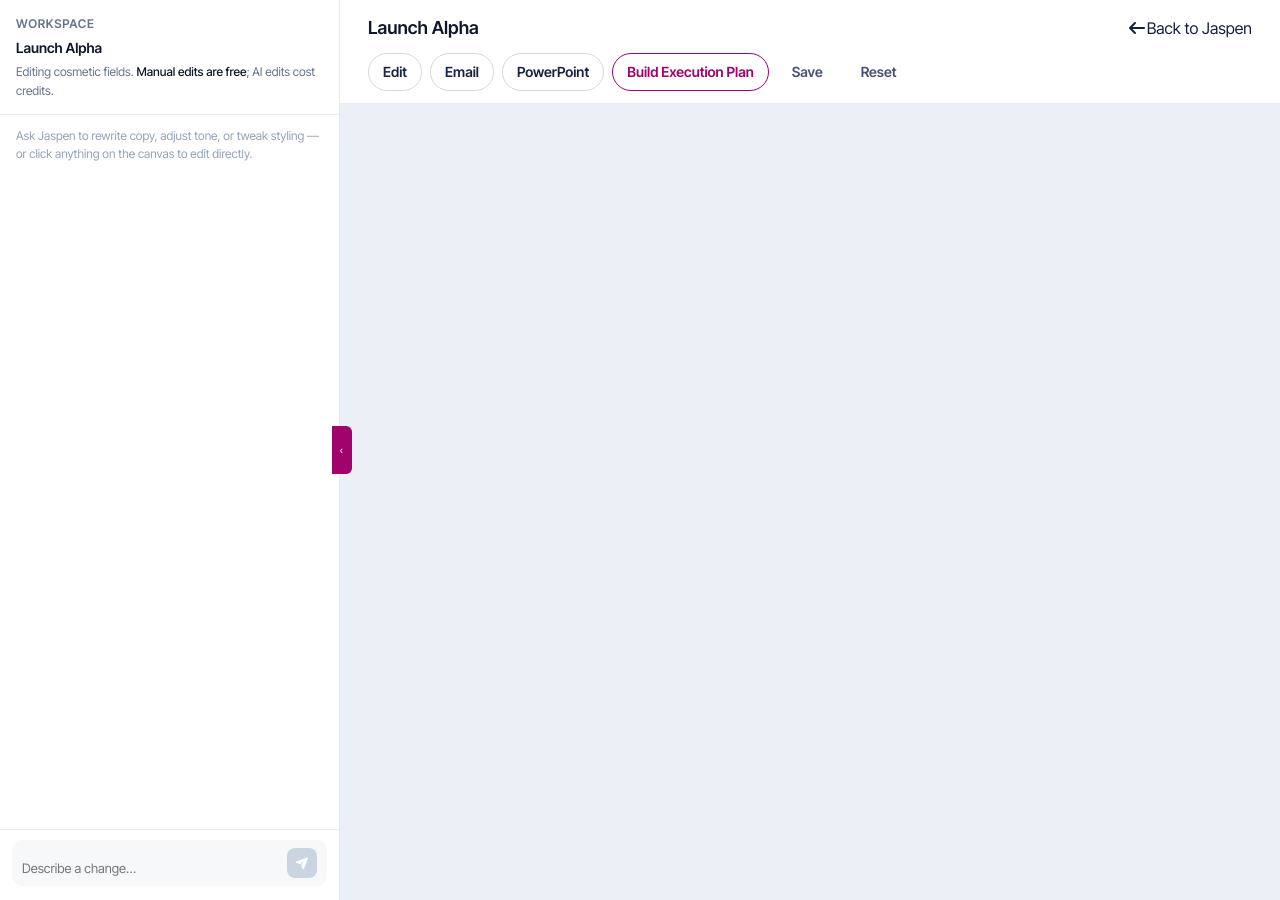
it: adds only the data-backed plan card after a successful sidebar build
Type "Build an execution plan" into the text box with placeholder "Describe a change…" at coordinates (152, 869), box left=22, top=859, right=281, bottom=878
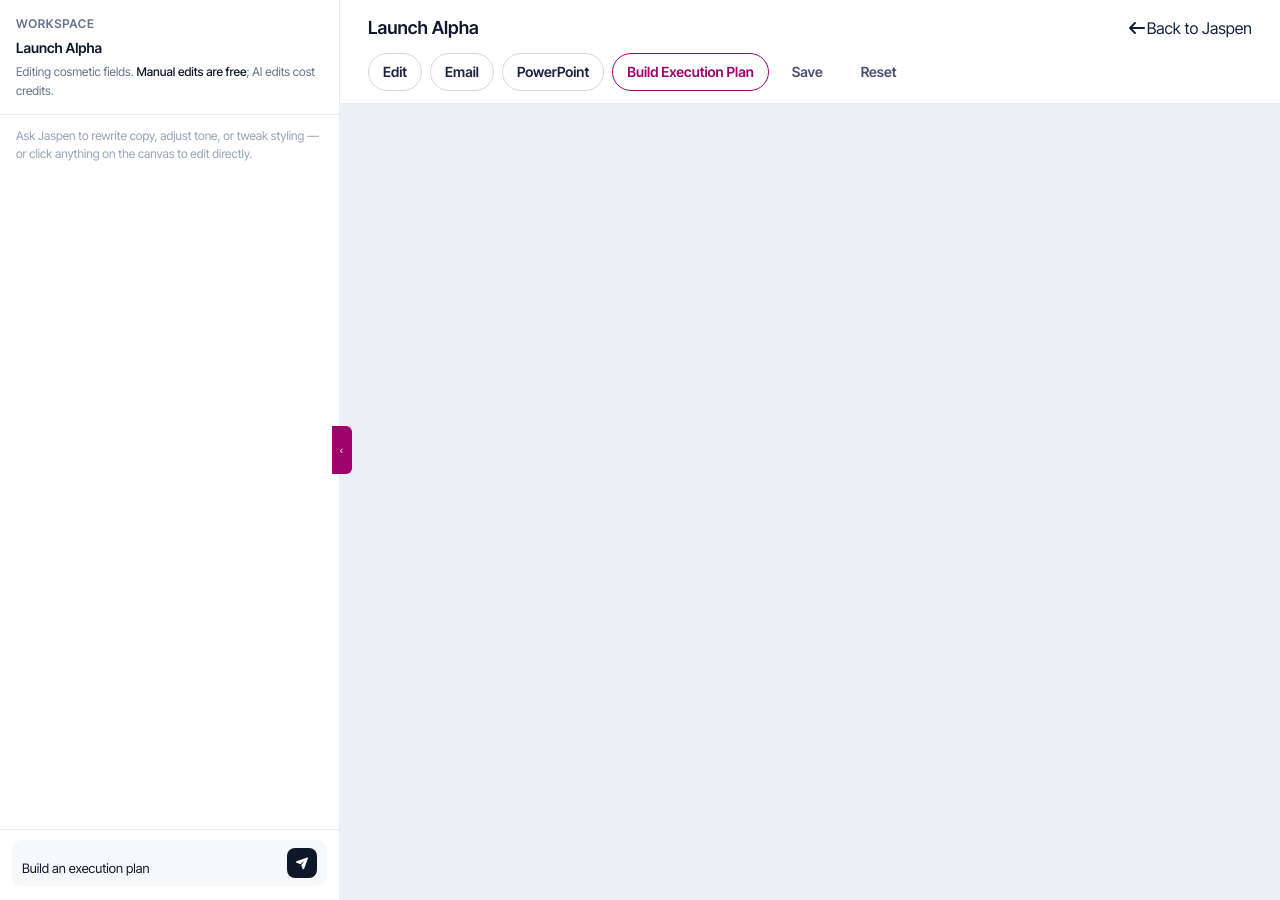
Click the button named "Send" at coordinates (302, 863), box left=287, top=848, right=317, bottom=878
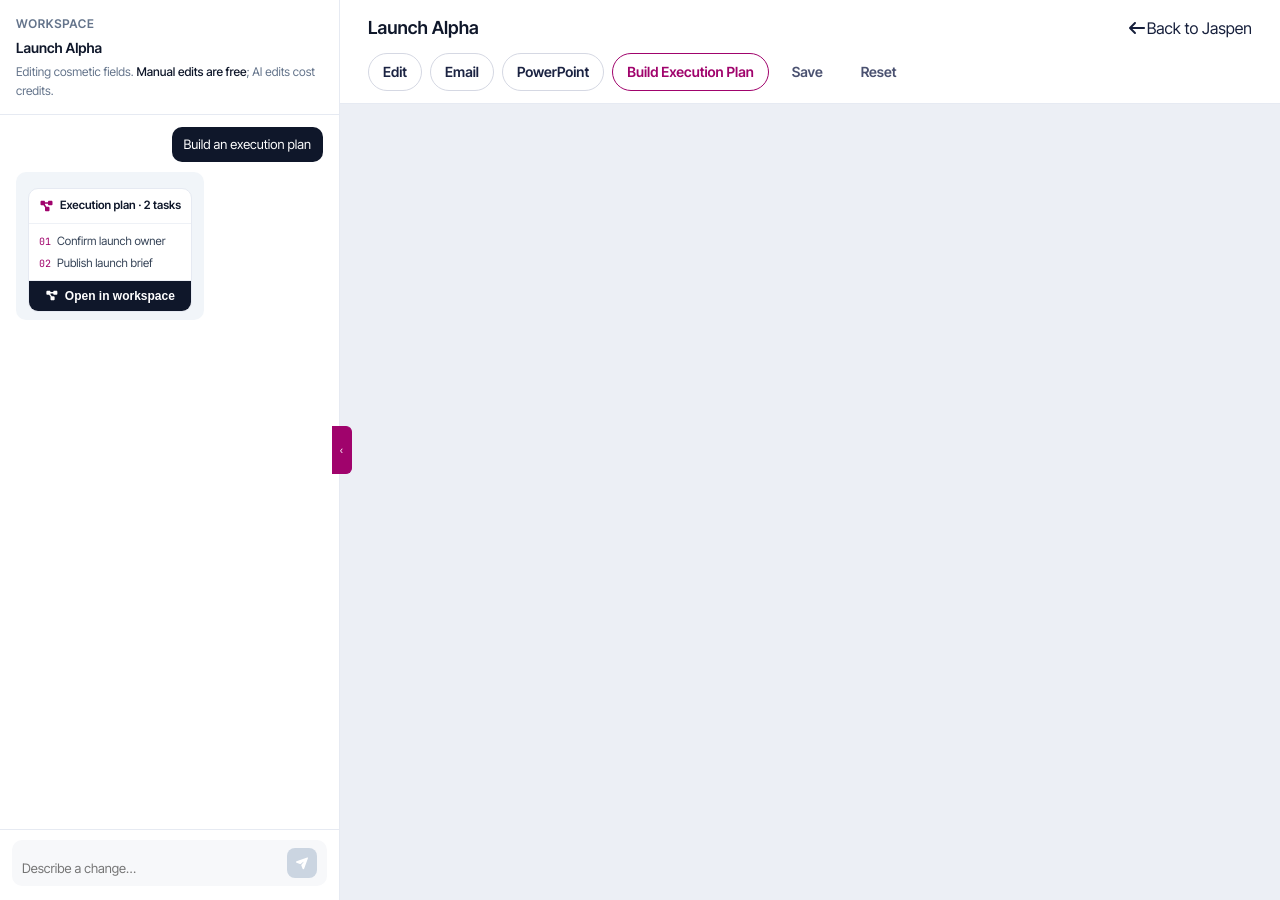
Now the text "Execution plan · 2 tasks" is shown, box left=60, top=198, right=181, bottom=215
